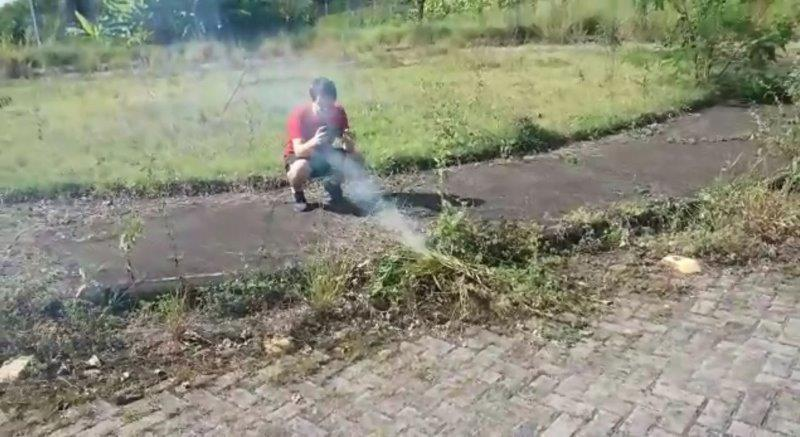smoke: (341, 169, 382, 201), (388, 219, 418, 242)
